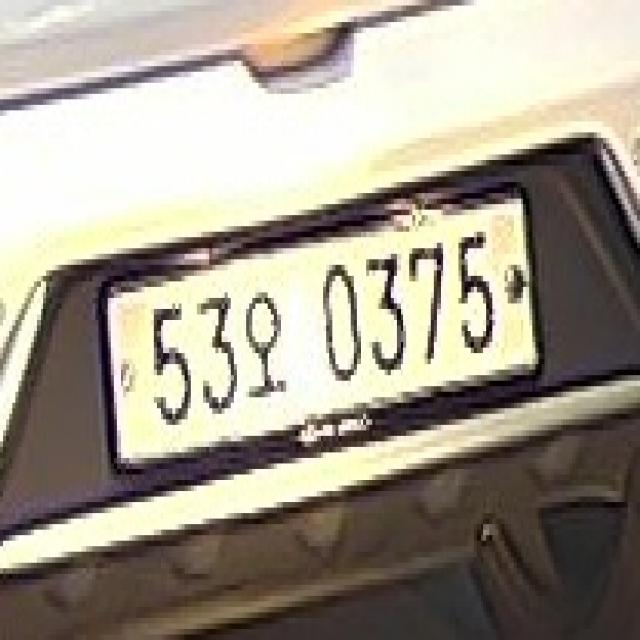0: (320, 248, 366, 408)
3: (191, 270, 246, 436), (366, 226, 406, 386)
5: (452, 204, 505, 375), (151, 292, 191, 425)
7: (406, 215, 462, 397)
license_plate: (83, 177, 545, 480)
o: (234, 281, 292, 403)
